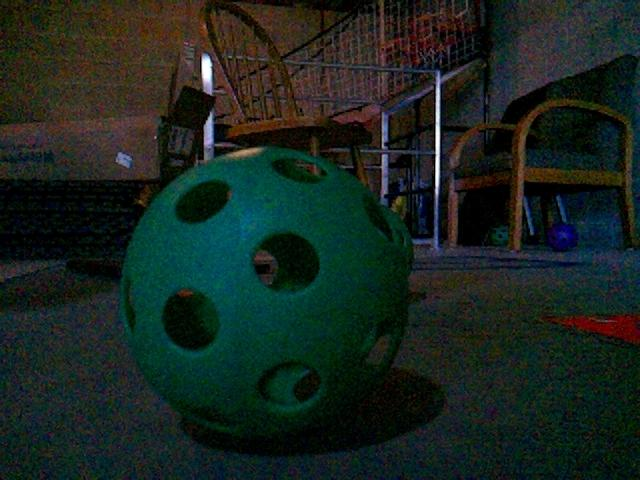Green: (115, 148, 417, 441), (546, 221, 579, 251), (486, 222, 510, 246)
